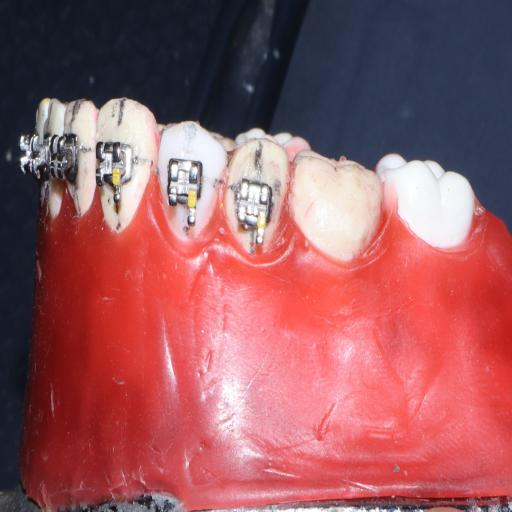correct_brace: (225, 138, 288, 254)
incorrect_brace: (235, 177, 272, 234)
